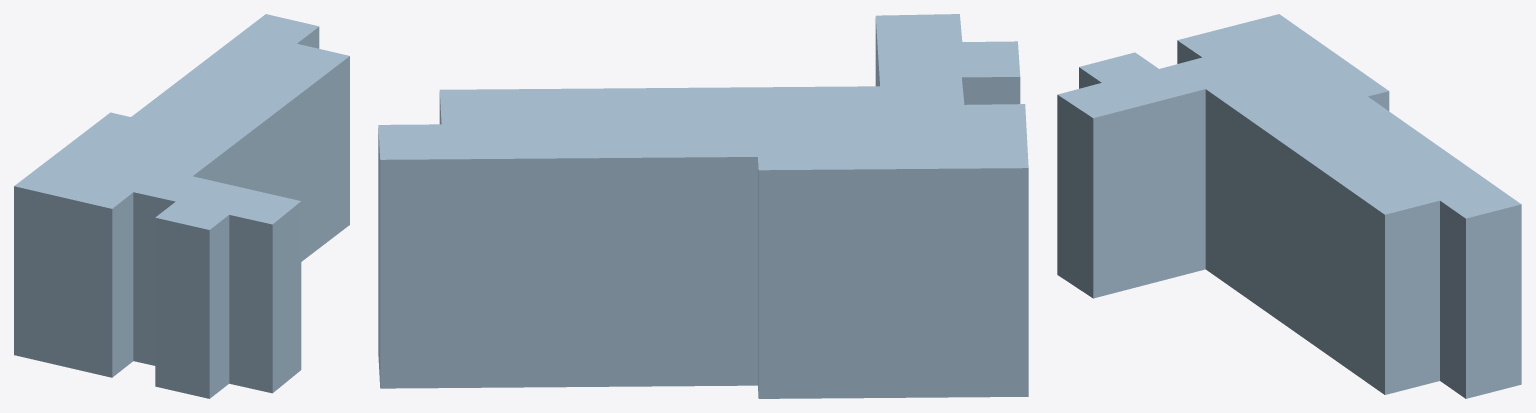
Rendered from osm_way_225198911.glb.
3 views of the same model, side by side, from view 1: azimuth 30°, elevation 25°; view 2: azimuth 150°, elevation 25°; view 3: azimuth 270°, elevation 25° (orthographic). The views are drawn at different scales.
Visible parts, largest first — view 1: osm_way_225198911; view 2: osm_way_225198911; view 3: osm_way_225198911.
Part boxes in pixels (bbox=[...]): osm_way_225198911: bbox=[14, 14, 349, 398]; osm_way_225198911: bbox=[378, 14, 1028, 398]; osm_way_225198911: bbox=[1057, 14, 1521, 398].
Bounding box in the file's own units: 46.73 × 19.2 × 44.79.
